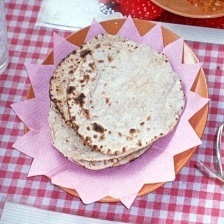roti: (28, 32, 191, 177)
